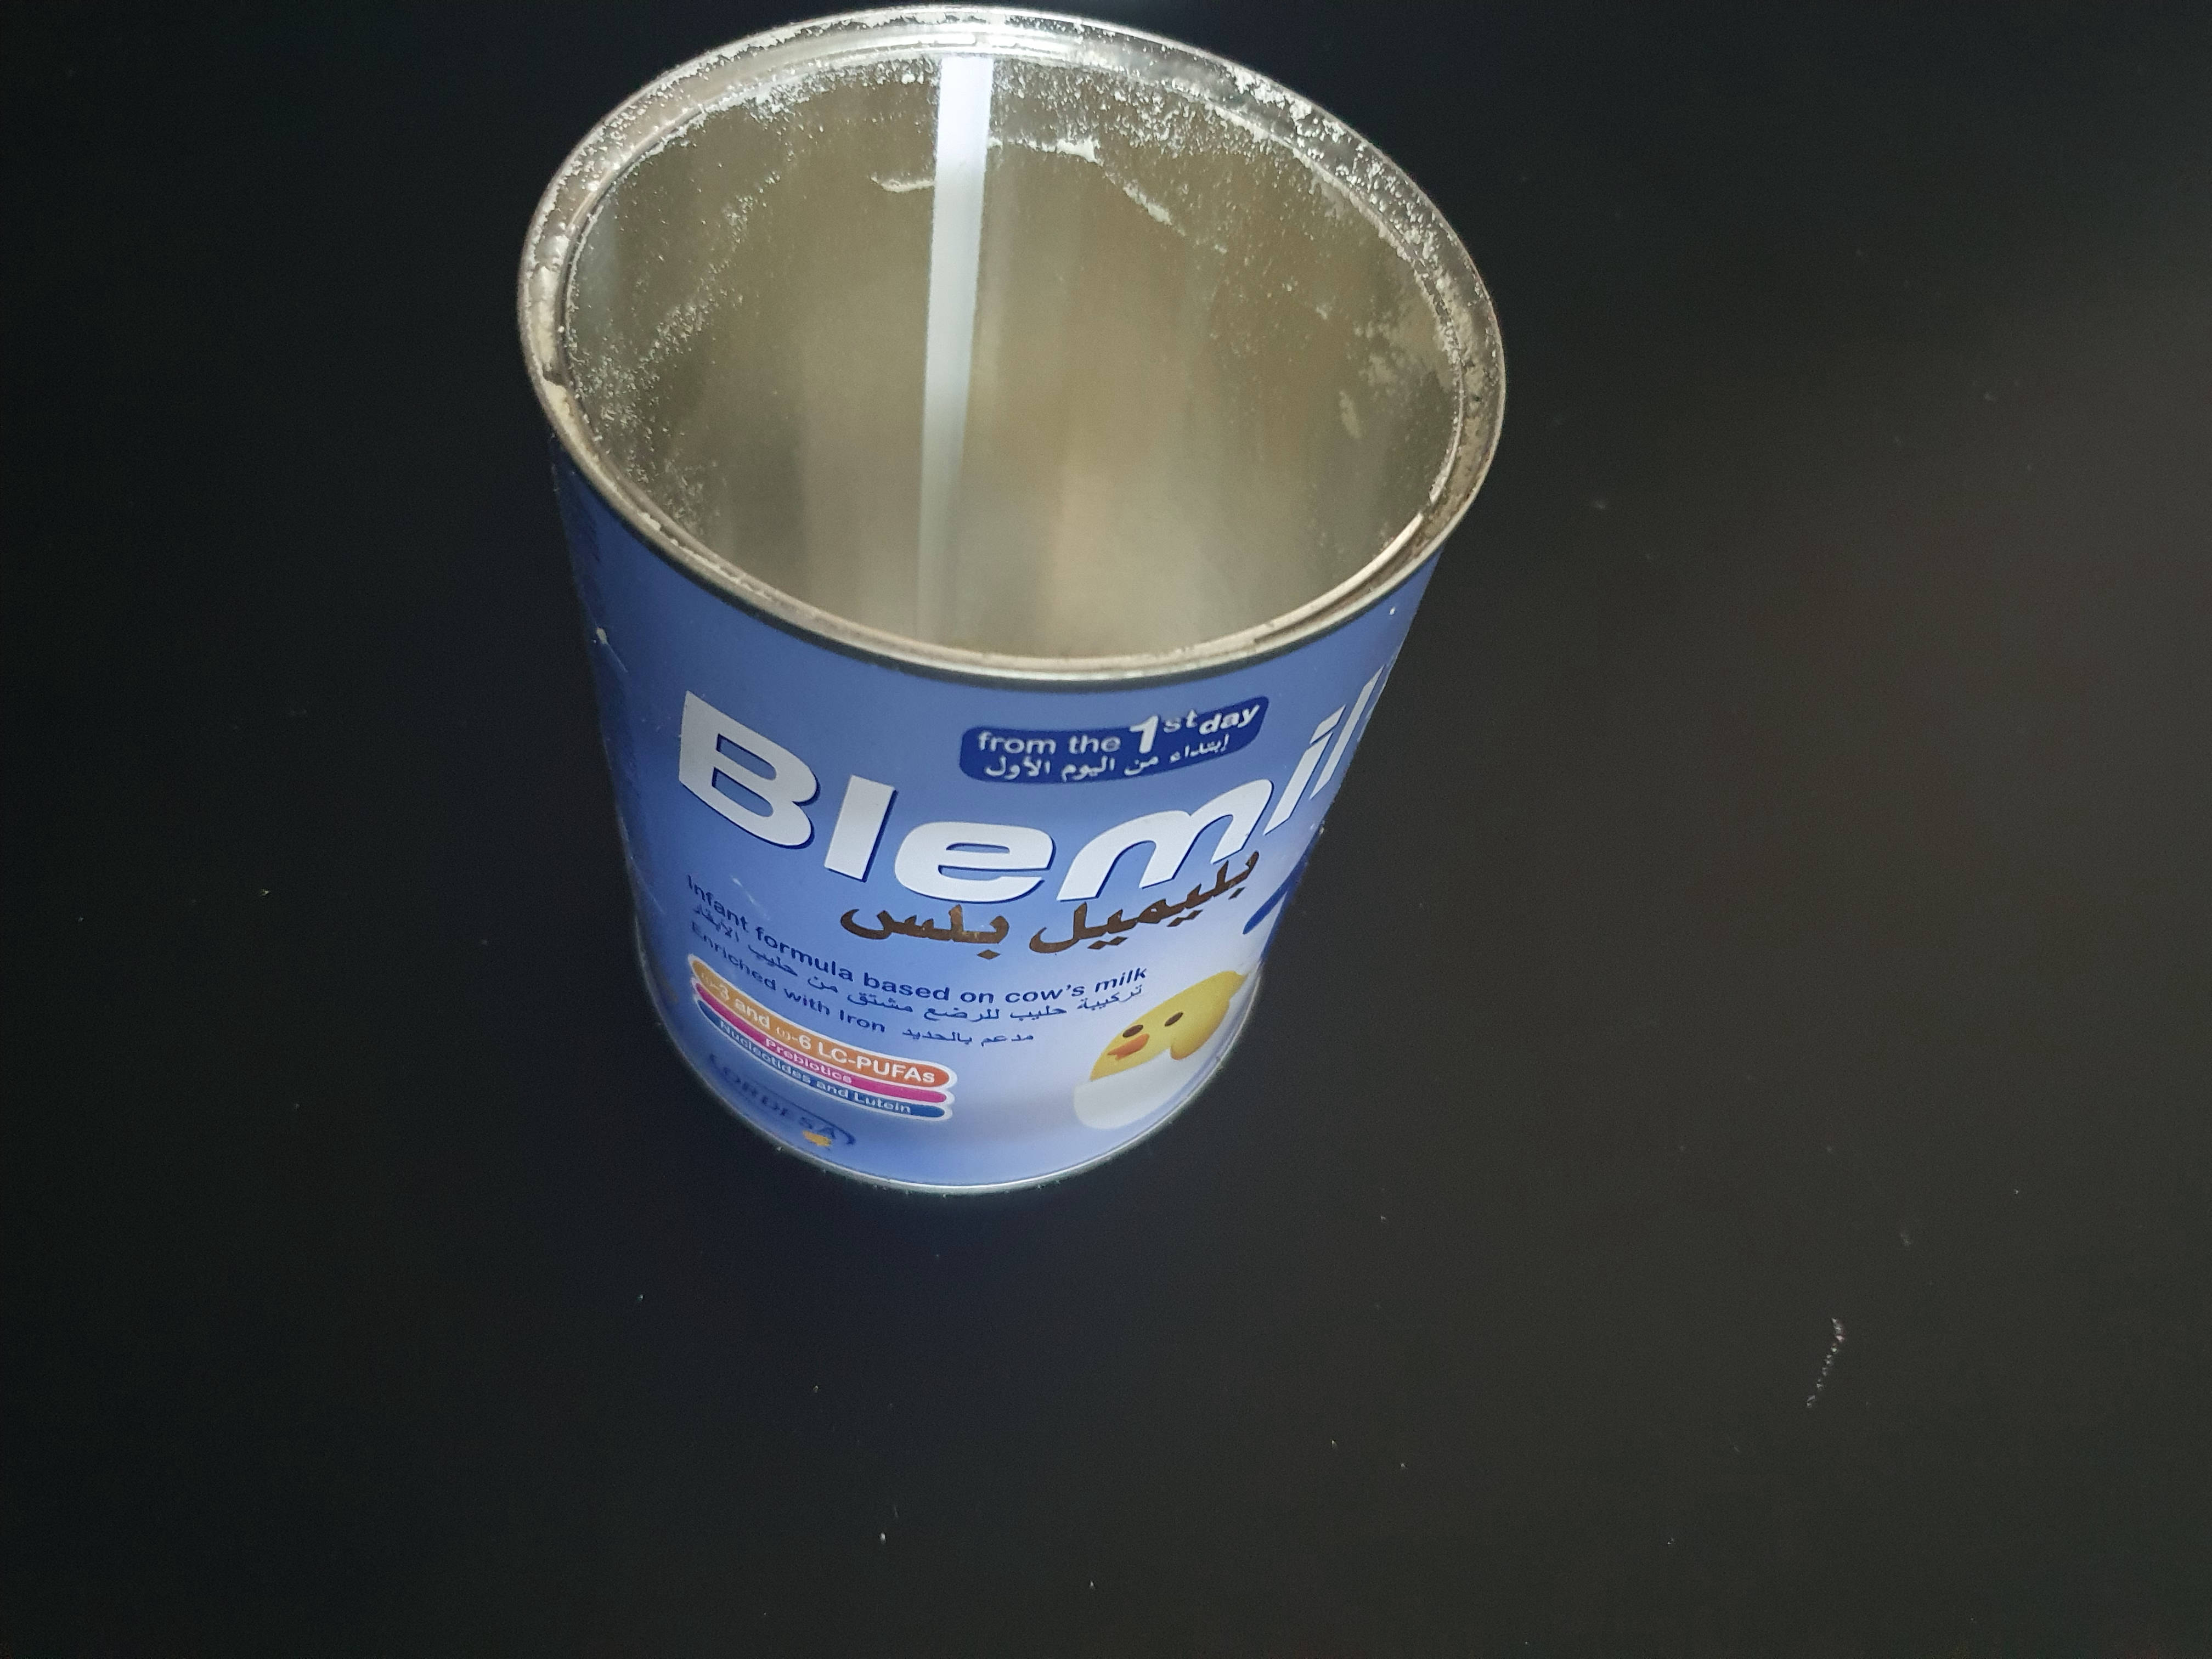metal: (510, 0, 1547, 1267)
